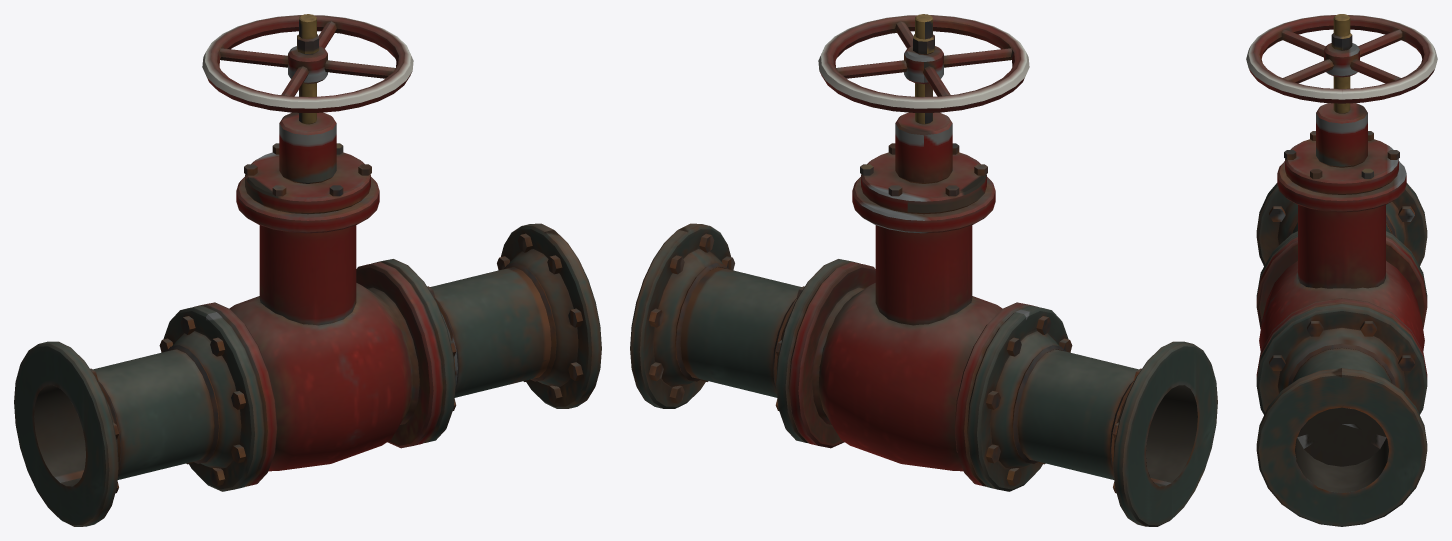
File: PipeValveWheel.glb
The picture shows the model from 3 angles, left to right: view 1: azimuth 30°, elevation 25°; view 2: azimuth 150°, elevation 25°; view 3: azimuth 270°, elevation 25°; orthographic projection. The views are drawn at different scales.
Parts seen in each view (by area): view 1: Pipe_Valve_Wheel, Pipe_Valve_Wheel_Handle; view 2: Pipe_Valve_Wheel, Pipe_Valve_Wheel_Handle; view 3: Pipe_Valve_Wheel, Pipe_Valve_Wheel_Handle.
Boxes of the visible parts, x1,y1,x2,y2 form: Pipe_Valve_Wheel: (14,14,601,526); Pipe_Valve_Wheel_Handle: (202,15,413,112); Pipe_Valve_Wheel: (630,14,1217,526); Pipe_Valve_Wheel_Handle: (818,15,1029,112); Pipe_Valve_Wheel: (1256,14,1427,526); Pipe_Valve_Wheel_Handle: (1246,15,1437,103).
Bounding box in the file's own units: 5 × 4.28 × 1.85.
1 material, 1 textured.
